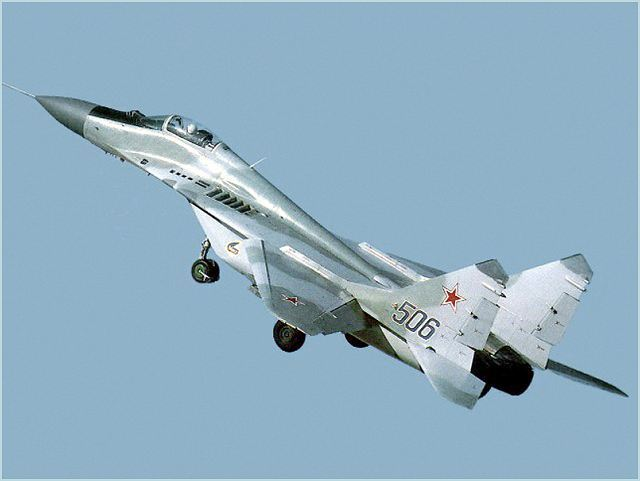Mig-29: (20, 55, 608, 422)
